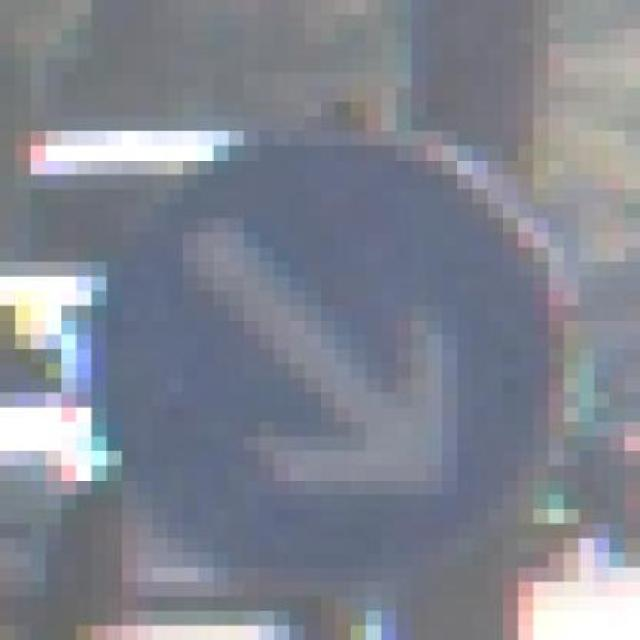Keep-Right: (61, 102, 594, 596)
